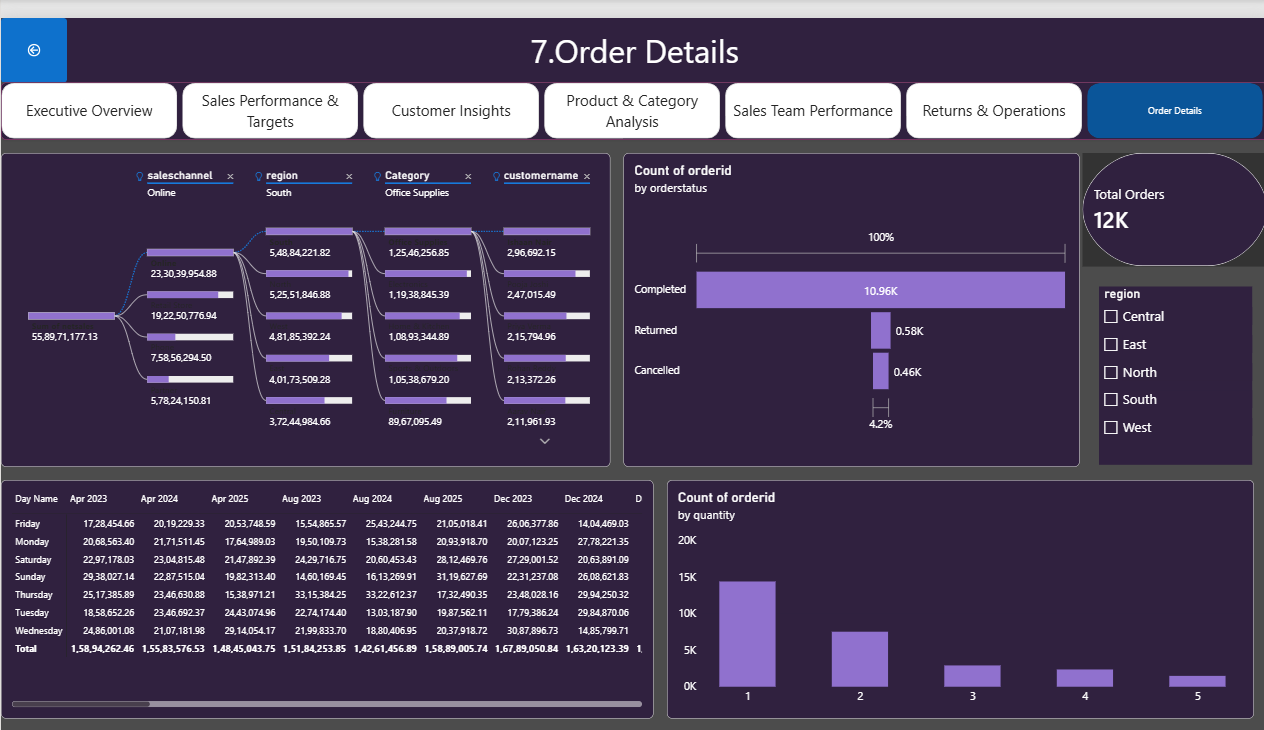

Layout of this report page (visuals, bound fields, positions):
{"tool":"powerbi","page":{"name":"Order Details","canvas":[1920,1080],"ordinal":6},"visuals":[{"type":"actionButton","box":[0,0,1919.3,97.7],"z":0},{"type":"actionButton","box":[0,0,99.9,97.7],"z":1000},{"type":"decompositionTreeVisual","fields":{"Analyze":["Sum(Order_items.netsales)"],"ExplainBy":["Orders.saleschannel","Customers.region","Products.Category","Customers.customername"]},"box":[0,204.5,922.7,475],"z":2000},{"type":"cardVisual","fields":{"Data":["Order_items.Total Orders"]},"box":[1638.6,204.5,280.4,171.7],"z":3000},{"type":"pageNavigator","box":[0,97.7,1918.2,86.4],"z":4000},{"type":"funnel","fields":{"Category":["Orders.orderstatus"],"Y":["CountNonNull(Orders.orderid)"]},"box":[943.2,204.5,690.9,475],"z":5000},{"type":"pivotTable","fields":{"Columns":["Calendar.Month Year"],"Rows":["Calendar.Day Name"],"Values":["Sum(Order_items.netsales)"]},"box":[0,699.6,988,361.1],"z":6000},{"type":"textbox","box":[989,716,645,327],"z":7000},{"type":"columnChart","fields":{"Category":["Order_items.quantity"],"Y":["CountNonNull(Order_items.orderid)"]},"box":[1009.1,700,888.6,361.4],"z":8000},{"type":"slicer","fields":{"Values":["Customers.region"]},"box":[1662.6,406.6,231.7,270.3],"z":8001}]}

Visuals, with their boxes on the page's 1920x1080 design canvas (x1, y1, x2, y2). These are canvas units, not pixel positions in the 1264x730 screenshot, which may show the page scaled, cropped or inside an application window:
actionButton: l=0, t=0, r=1919, b=98
actionButton: l=0, t=0, r=100, b=98
decompositionTreeVisual - Sum(Order_items.netsales) x Orders.saleschannel: l=0, t=204, r=923, b=680
cardVisual - Order_items.Total Orders: l=1639, t=204, r=1919, b=376
pageNavigator: l=0, t=98, r=1918, b=184
funnel - Orders.orderstatus x CountNonNull(Orders.orderid): l=943, t=204, r=1634, b=680
pivotTable - Calendar.Month Year x Calendar.Day Name: l=0, t=700, r=988, b=1061
textbox: l=989, t=716, r=1634, b=1043
columnChart - Order_items.quantity x CountNonNull(Order_items.orderid): l=1009, t=700, r=1898, b=1061
slicer - Customers.region: l=1663, t=407, r=1894, b=677
